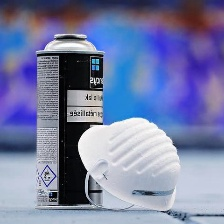aerosol_cans: (30, 27, 109, 213)
